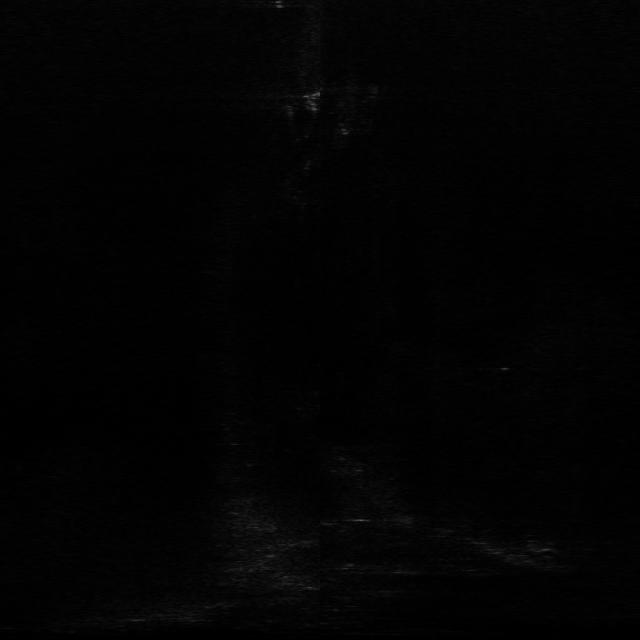rov: (300, 88, 330, 114)
